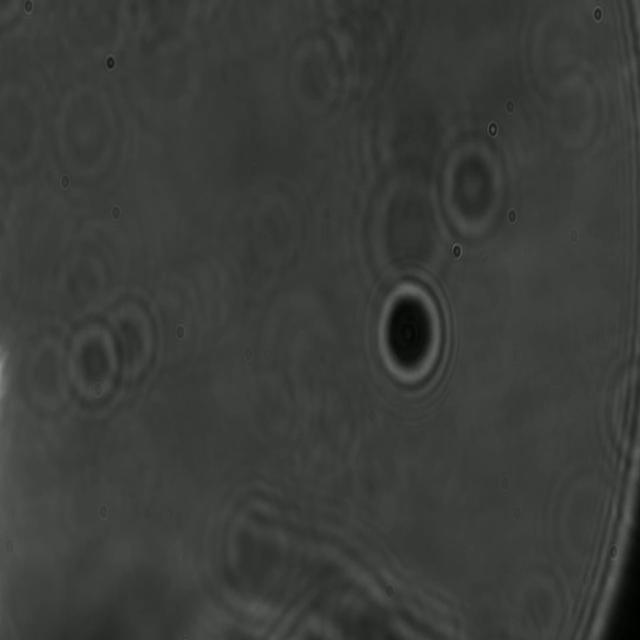DCELL: (368, 268, 452, 402)
